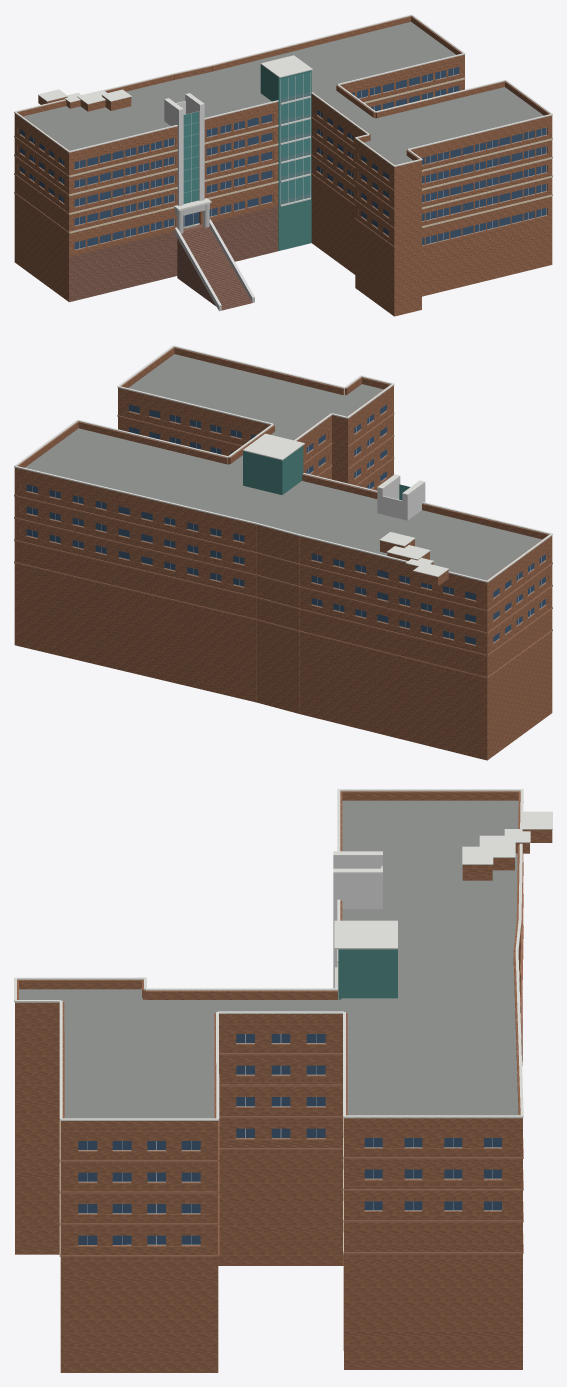
3 renders of one model, top to bottom at view 1: azimuth 30°, elevation 25°; view 2: azimuth 150°, elevation 25°; view 3: azimuth 270°, elevation 25°, orthographic. The views are drawn at different scales.
Parts seen in each view (by area): view 1: osm759074759__brick-wall, osm759074759__roof, osm759074759__glass, osm759074759__stair-brick-wall, osm759074759__trim, osm759074759__band-cream, osm759074759__curtain-glass, osm759074759__teal-tower-wall, osm759074759__frame, osm759074759__white-granite-wall, osm759074759__granite-rail-wall, osm759074759__tower-glass (+4 smaller); view 2: osm759074759__brick-wall, osm759074759__roof, osm759074759__glass, osm759074759__trim, osm759074759__brick-band, osm759074759__teal-tower-wall, osm759074759__white-granite-wall, osm759074759__frame; view 3: osm759074759__brick-wall, osm759074759__roof, osm759074759__trim, osm759074759__glass, osm759074759__brick-band, osm759074759__teal-tower-wall, osm759074759__white-granite-wall, osm759074759__frame.
Part boxes in pixels (x1,y1,x2,y2): osm759074759__brick-wall: (14,16,552,316); osm759074759__roof: (23,22,543,164); osm759074759__glass: (20,67,546,249); osm759074759__stair-brick-wall: (69,206,278,310); osm759074759__trim: (14,14,552,210); osm759074759__band-cream: (69,77,552,233); osm759074759__curtain-glass: (280,72,310,200); osm759074759__teal-tower-wall: (260,64,311,250); osm759074759__frame: (20,68,546,249); osm759074759__white-granite-wall: (164,95,204,225); osm759074759__granite-rail-wall: (175,203,254,311); osm759074759__tower-glass: (183,111,198,203); osm759074759__brick-wall: (14,347,552,760); osm759074759__roof: (25,354,541,580); osm759074759__glass: (26,404,545,644); osm759074759__trim: (14,345,552,582); osm759074759__brick-band: (14,413,552,678); osm759074759__teal-tower-wall: (243,445,303,494); osm759074759__white-granite-wall: (377,477,425,520); osm759074759__frame: (26,410,545,645); osm759074759__brick-wall: (15,791,552,1372); osm759074759__roof: (19,800,518,1118); osm759074759__trim: (14,789,552,1120); osm759074759__glass: (78,1034,501,1244); osm759074759__brick-band: (60,854,523,1256); osm759074759__teal-tower-wall: (338,949,397,999); osm759074759__white-granite-wall: (333,856,382,988); osm759074759__frame: (78,1034,501,1245).
Bounding box in the file's own units: 78.52 × 32.65 × 54.13.
Materials: 19 (2 with a texture image).
